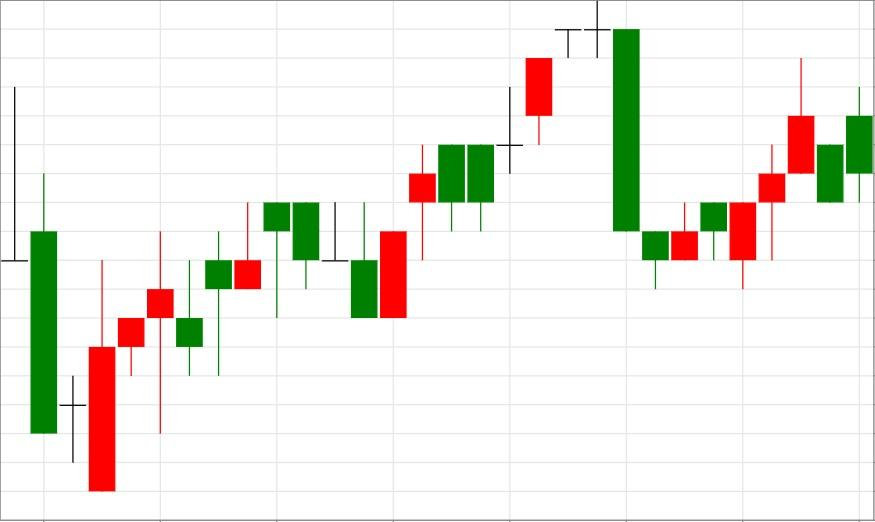hanging_man_fall: (175, 202, 291, 376)
three_white_soldiers_rise: (583, 0, 816, 290)
